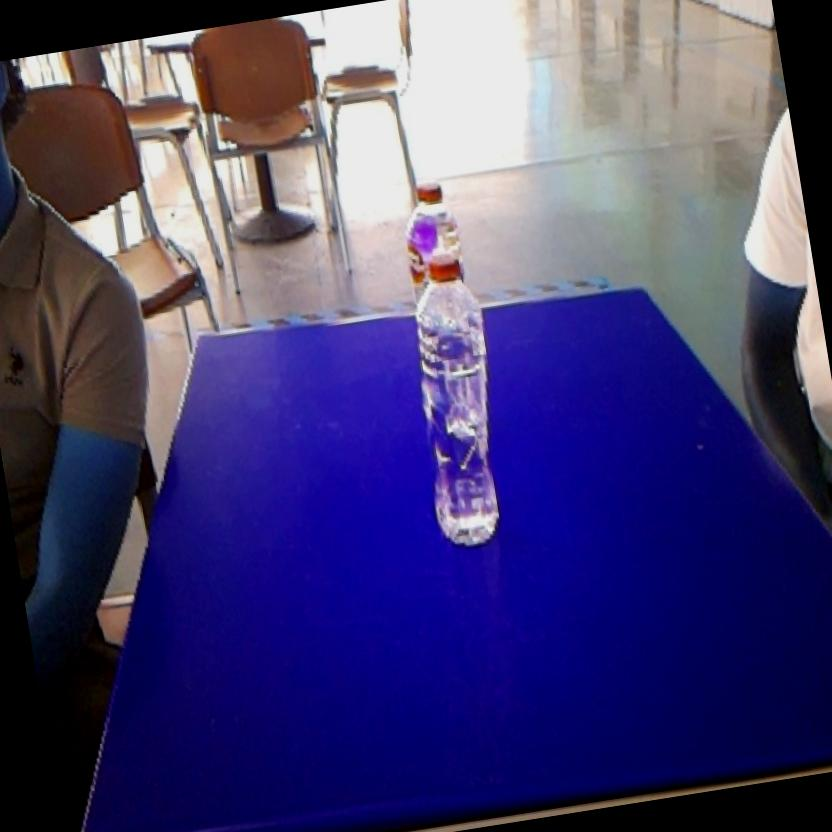good: (392, 173, 473, 263)
no_label: (390, 242, 524, 556)
